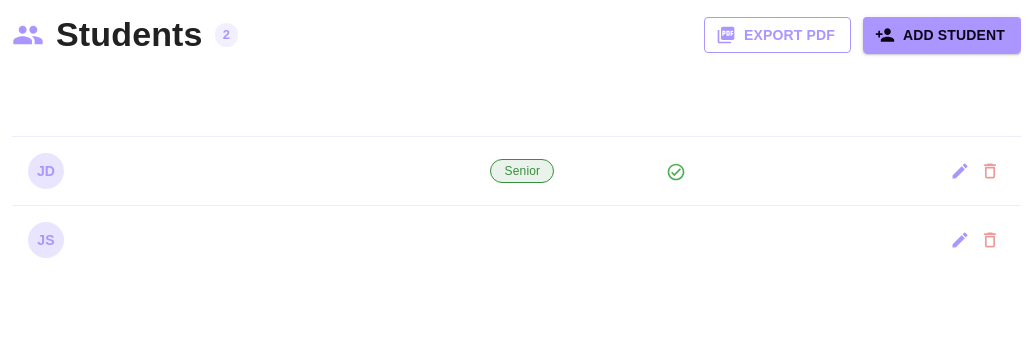
Test: Students page › PDF export › with students › shows an error when the export fails
Click the button "Export PDF".
click(778, 35)  # box [704,17,851,53]
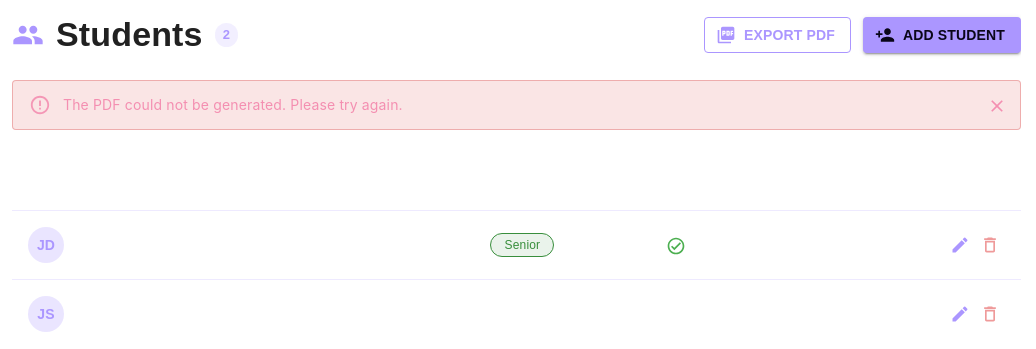
Expected: the text "The PDF could not be generated. Please try again." is shown, [63,96,403,113]
